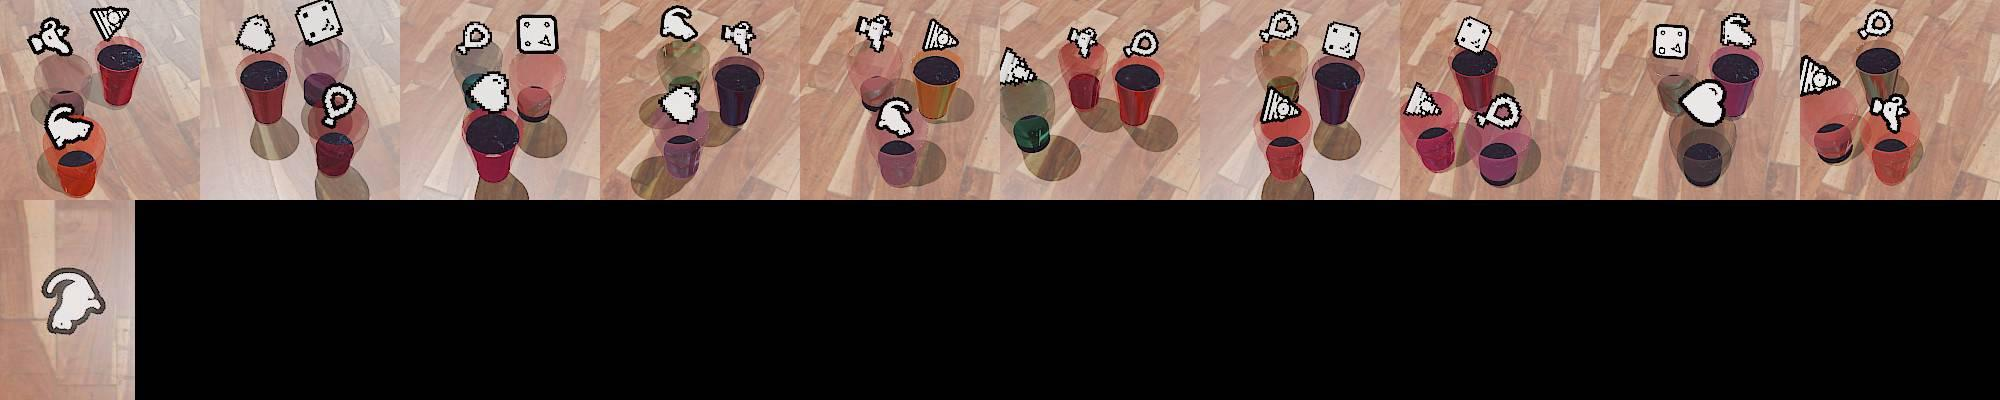icon: (40, 266, 107, 334), (1677, 79, 1727, 126), (43, 102, 94, 148), (293, 0, 343, 46), (463, 70, 511, 113), (27, 17, 74, 57), (658, 83, 702, 124), (874, 96, 916, 136), (997, 46, 1040, 87), (235, 14, 277, 55), (1477, 93, 1523, 130), (1800, 56, 1842, 96), (515, 14, 557, 54), (1870, 93, 1911, 132), (1320, 20, 1361, 60), (658, 5, 700, 43), (321, 83, 357, 127), (855, 13, 893, 54), (1260, 85, 1300, 124), (921, 17, 962, 54), (1652, 23, 1690, 61), (89, 5, 130, 41), (1259, 9, 1300, 45), (1718, 11, 1756, 48), (1455, 15, 1492, 54), (719, 20, 756, 56), (455, 20, 492, 56), (1403, 82, 1440, 116), (1857, 8, 1895, 41), (1124, 28, 1159, 59), (1066, 27, 1099, 59)
